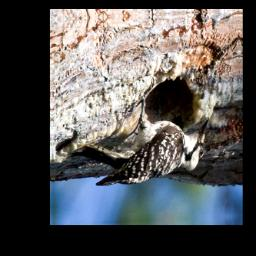Woodpecker: (67, 93, 214, 195)
